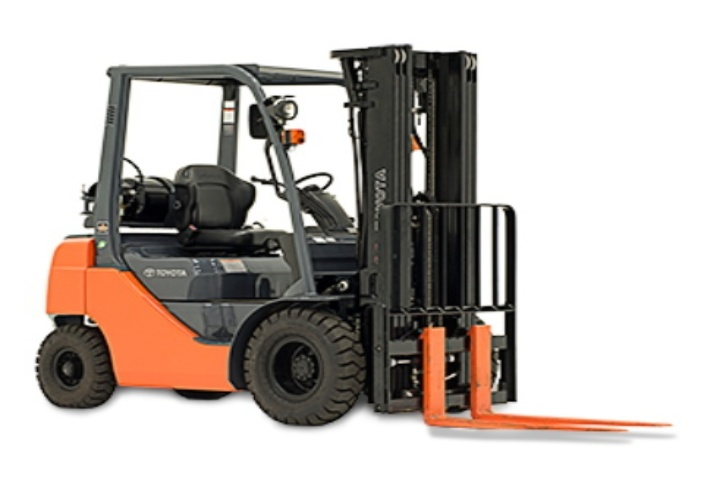industrial: (24, 28, 679, 465)
